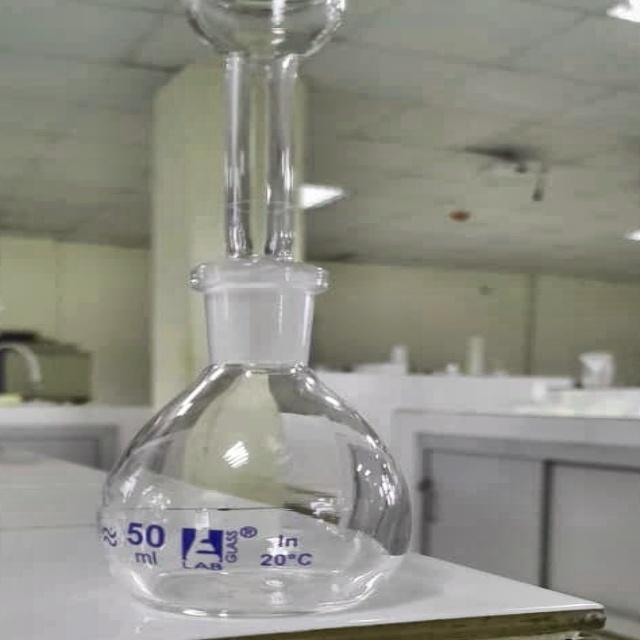Density Bottles for Solids: (86, 3, 400, 626)
